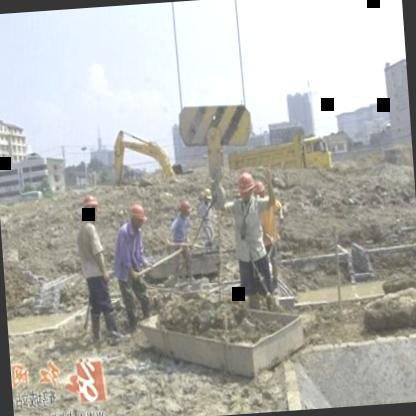helmet: (79, 190, 102, 224), (236, 168, 258, 202), (127, 203, 152, 232), (178, 196, 196, 219), (252, 180, 269, 200), (202, 184, 215, 205)
